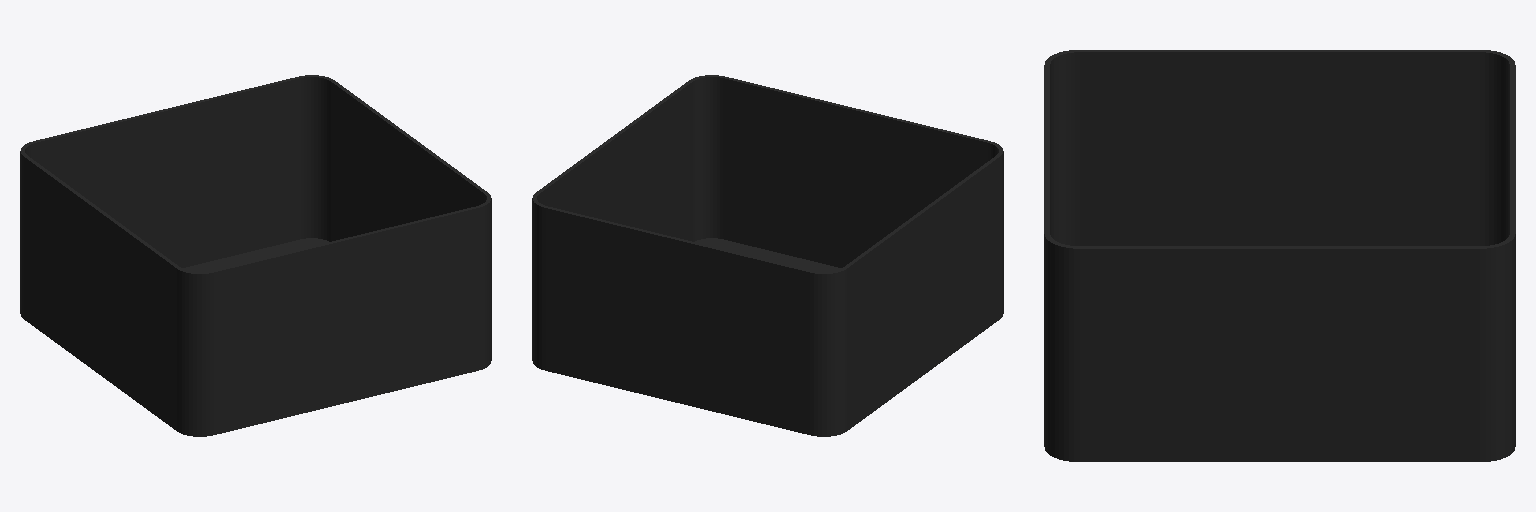
URDF robot description (basket):
<?xml version="1.0" ?>
<!-- =================================================================================== -->
<!-- |    This document was autogenerated by xacro from [local-path]/rap/gaurav_ws/install/liquid_pickup/share/liquid_pickup/urdf/basket/basket.urdf.xacro | -->
<!-- |    EDITING THIS FILE BY HAND IS NOT RECOMMENDED                                 | -->
<!-- =================================================================================== -->
<robot name="basket">
  <material name="basket_green">
    <color rgba="0 1 0 1"/>
    <ambient>0 0 0 1</ambient>
    <diffuse>1 0.39 0.28 1</diffuse>
    <specular>0.01 0.01 0.01 1</specular>
    <emissive>0 0 0 1</emissive>
  </material>
  <link name="basket_link_368">
    <inertial>
      <mass value="1"/>
      <origin xyz="0 0 0"/>
      <inertia ixx="1" ixy="0" ixz="0" iyy="1" iyz="0" izz="1"/>
    </inertial>
    <visual>
      <origin rpy="0 0 0" xyz="0 0 0"/>
      <geometry>
        <mesh filename="package://liquid_pickup/meshes/basket/Basket_V2.stl" scale="0.95 0.95 0.95"/>
      </geometry>
      <material name="darkgrey">
        <color rgba="0.2 0.2 0.2 1"/>
      </material>
    </visual>
    <collision>
      <origin rpy="0 0 0" xyz="0 0 0"/>
      <geometry>
        <mesh filename="package://liquid_pickup/meshes/basket/Basket_V2.stl" scale="0.95 0.95 0.95"/>
      </geometry>
    </collision>
  </link>
  <gazebo reference="basket_link_368">
    <gravity>0</gravity>
  </gazebo>
</robot>

--- Facts derived from the render (not from the file) ---
The picture shows the robot from 3 angles, left to right: view 1: azimuth 30°, elevation 25°; view 2: azimuth 150°, elevation 25°; view 3: azimuth 270°, elevation 25°; orthographic projection.
Robot: basket — 1 links, 0 joints (none); root link basket_link_368; default pose: every joint at zero.
Links seen in each view (by area): view 1: basket_link_368; view 2: basket_link_368; view 3: basket_link_368.
Link boxes in pixels (<box>): basket_link_368: <box>20,75,491,436</box>; basket_link_368: <box>532,75,1003,436</box>; basket_link_368: <box>1044,50,1515,461</box>.
Size in the robot's own frame: 0.38 by 0.38 by 0.19 metres.
1 mesh visuals loaded from 1 distinct referenced files (1 binary STL).